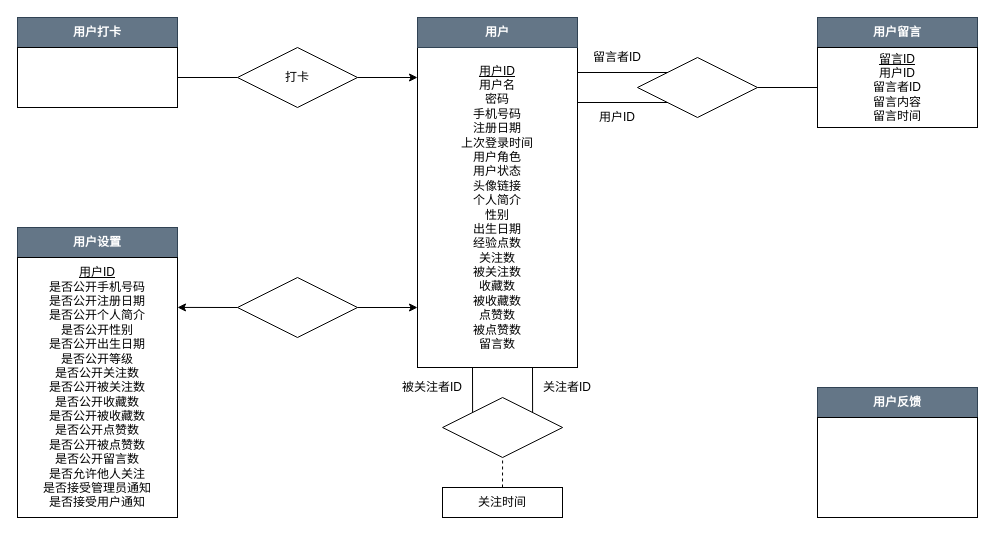
This 995x535 diagram has some shape labels left out. The shapes that lost their labels are listed below. From the top down, each one's centre as x and y in pixels, then its label:
point 97,77: 打卡记录ID 用户ID 打卡时间
point 697,87: 留言
point 297,307: 拥有
point 502,427: 关注
point 897,467: 反馈意见ID 反馈类型 反馈内容 反馈时间 电子邮箱 手机号码
